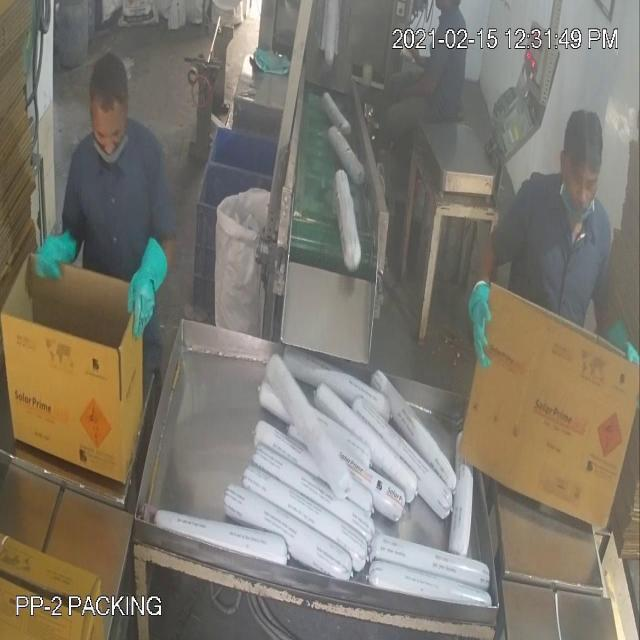Gloves: (44, 41, 482, 324)
